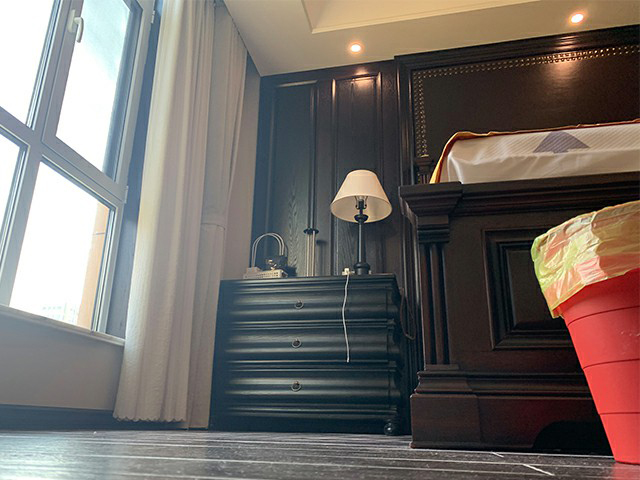cabinet: (207, 273, 410, 436)
curtain: (111, 1, 248, 430)
stool: (397, 170, 640, 456)
trashcan: (531, 200, 640, 468)
